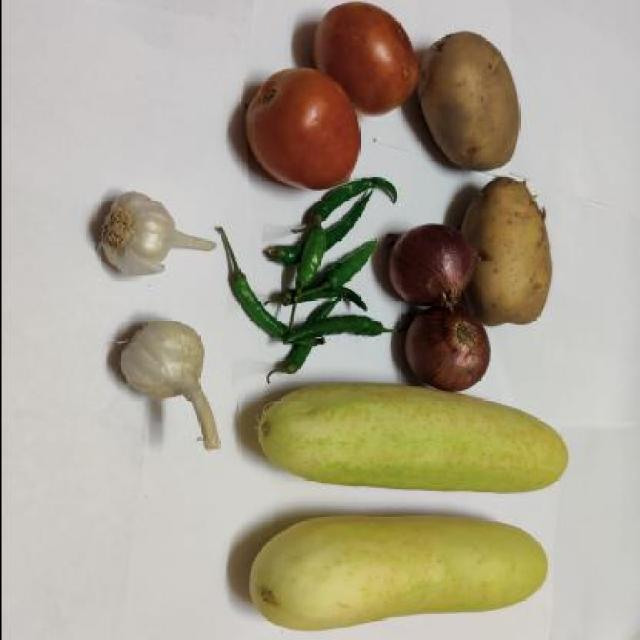Garlic: (104, 302, 223, 462), (89, 184, 228, 274)
Green Chili: (228, 191, 374, 372)
Onion: (396, 302, 502, 384), (389, 217, 471, 306)
Potato: (418, 10, 524, 178), (457, 172, 557, 323)
Tomato: (232, 61, 365, 200), (315, 0, 423, 106)
cucumber: (226, 368, 577, 508), (209, 511, 551, 640)
